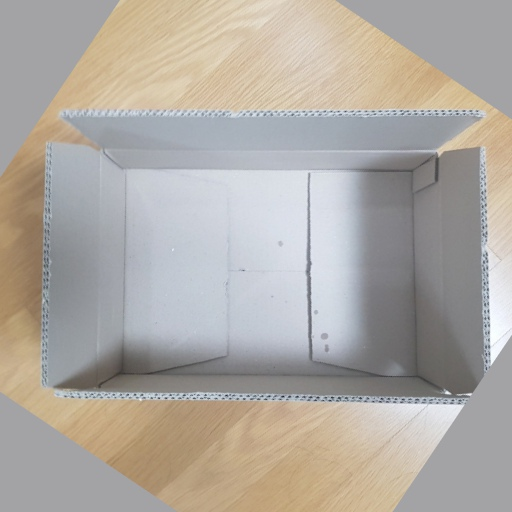Paper_0: (35, 105, 500, 410)
